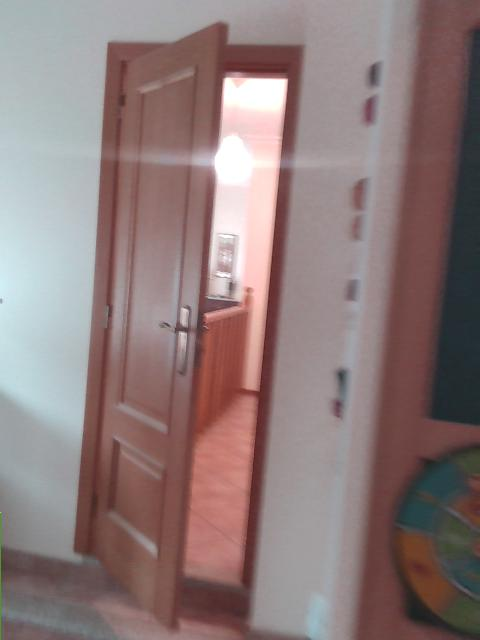semi_door: (71, 18, 307, 636)
